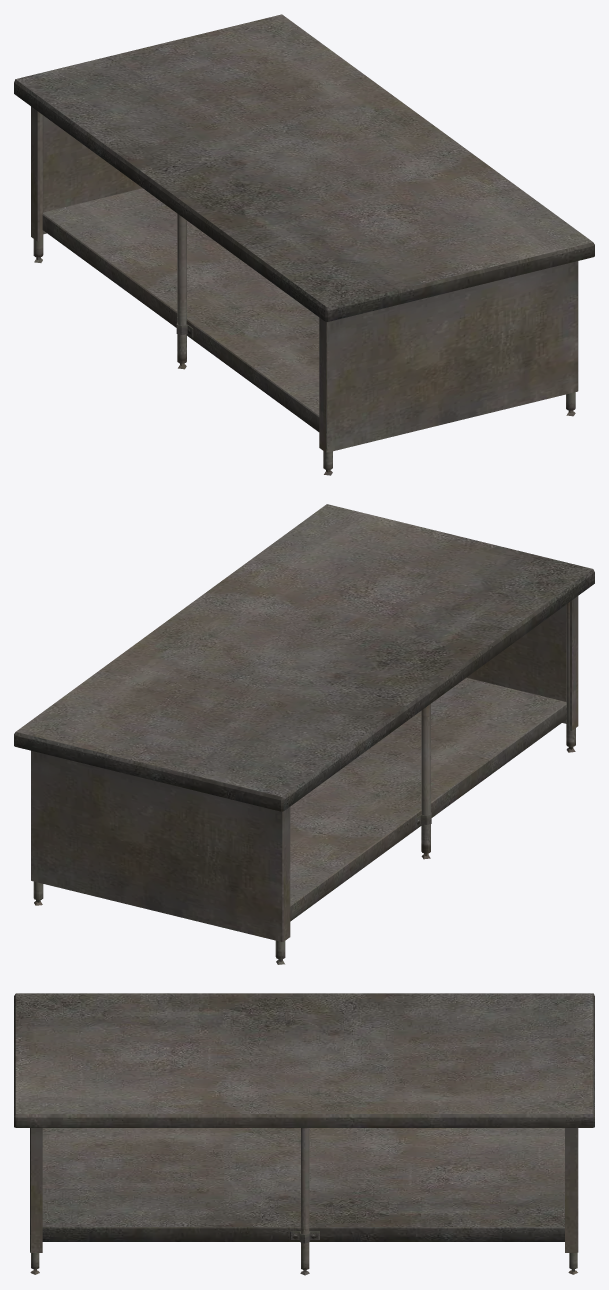
Rendered from kitchen_counter001d.glb.
3 views of the same model, one above another, from view 1: azimuth 30°, elevation 25°; view 2: azimuth 150°, elevation 25°; view 3: azimuth 270°, elevation 25° (orthographic). The views are drawn at different scales.
Visible parts, largest first — view 1: 0_prison_objects005; view 2: 0_prison_objects005; view 3: 0_prison_objects005.
Part boxes in pixels (x1,y1,x2,y2): 0_prison_objects005: (14,14,594,475); 0_prison_objects005: (14,504,594,964); 0_prison_objects005: (14,993,594,1275).
Size of the model in its own units: 1.62 by 1.02 by 3.26.
1 material, 1 textured.
